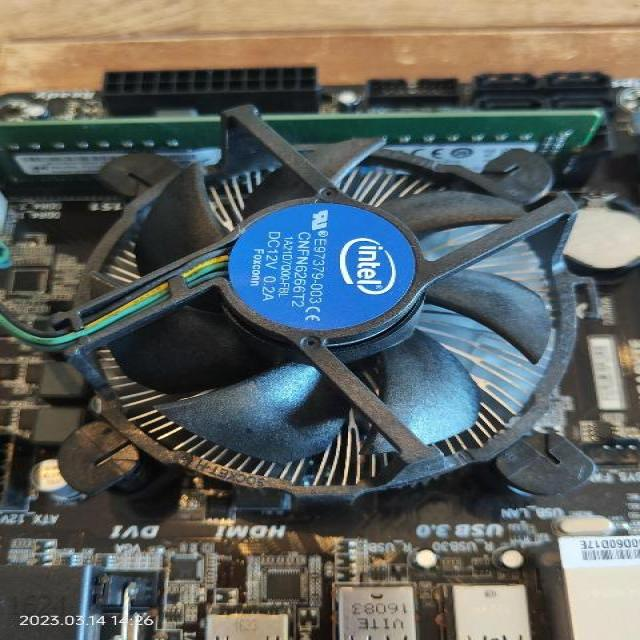CPU_Fan: (41, 102, 599, 500)
